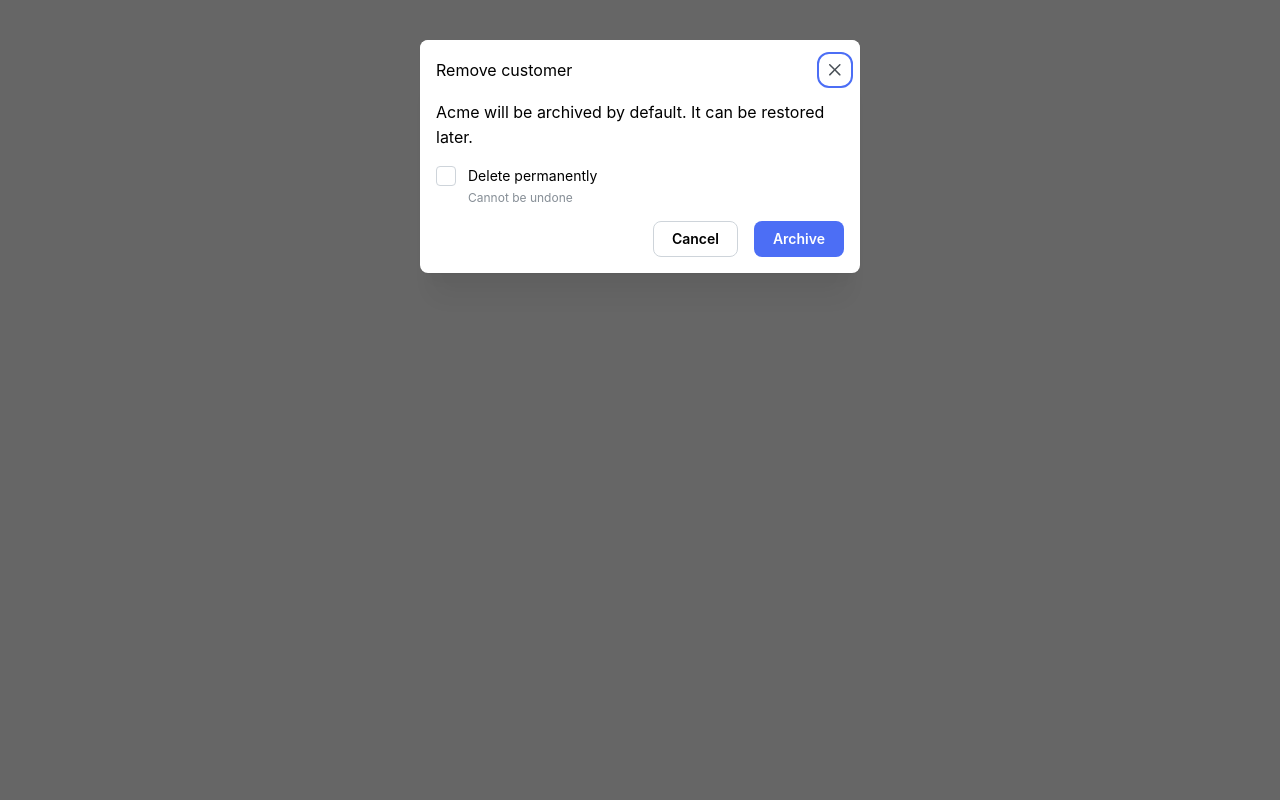
it: RemoveEntityModal › shows the effects warning only once permanent delete is selected
Expected: the text "Delete permanently" is shown, x1=456 y1=166 x2=597 y2=186
Expected: the text "Also removes" is not shown
Click the checkbox: (446, 176) x1=436 y1=166 x2=456 y2=186
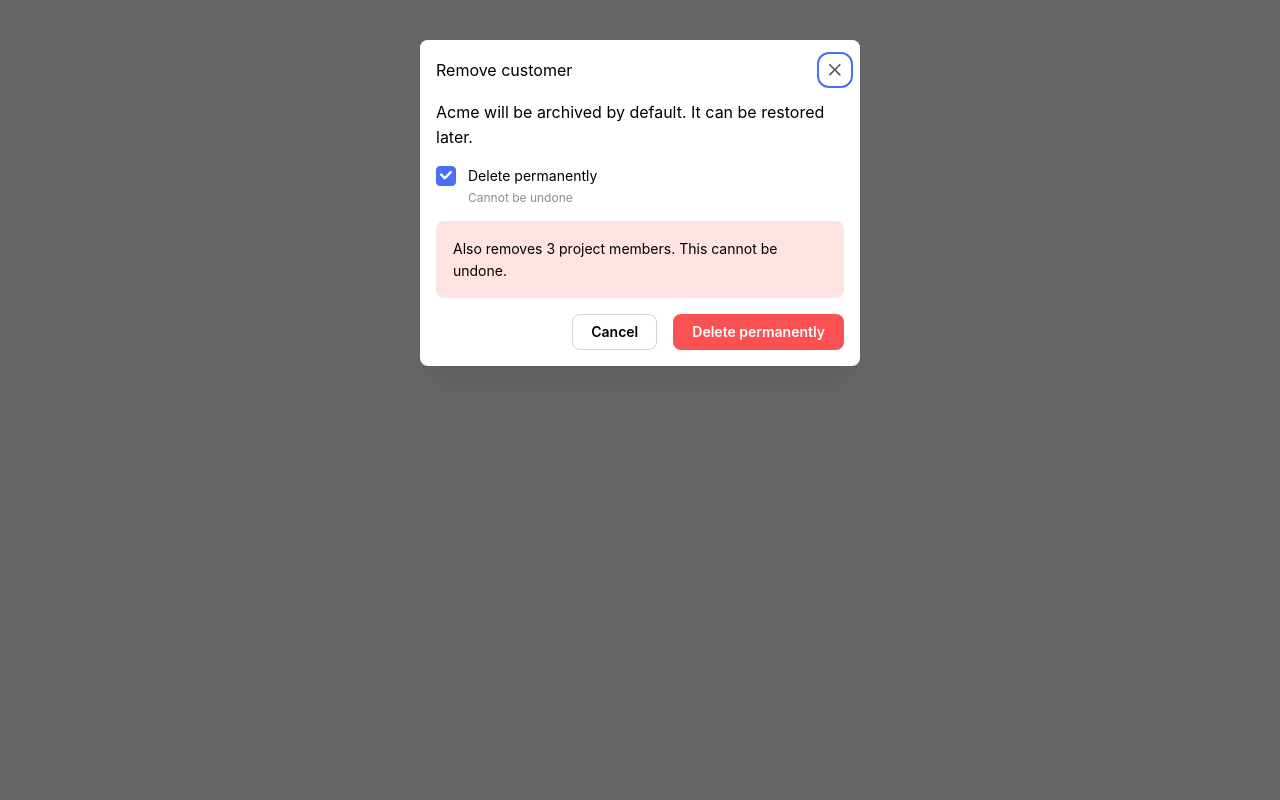
Expected: the text "Also removes 3 project members. This cannot be undone." is shown, x1=453 y1=238 x2=827 y2=281
